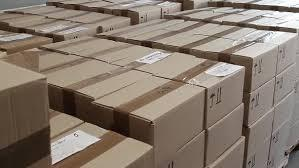Box: (91, 74, 207, 168), (136, 50, 244, 129), (40, 56, 152, 124), (0, 59, 51, 168), (51, 122, 154, 168), (205, 38, 278, 93), (0, 45, 89, 75), (239, 28, 298, 73), (206, 103, 244, 166), (94, 43, 173, 69), (46, 35, 128, 57), (163, 31, 230, 57), (61, 9, 130, 34), (243, 76, 276, 128), (1, 27, 55, 58), (25, 18, 94, 42), (97, 23, 172, 43), (244, 109, 273, 159), (195, 22, 256, 41), (275, 61, 297, 106), (128, 4, 162, 26), (164, 20, 216, 34), (156, 0, 182, 18), (141, 18, 185, 28)
